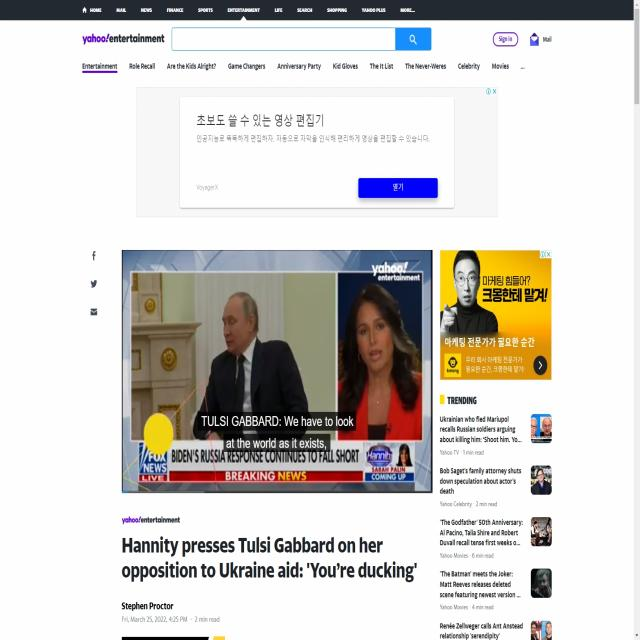menu-bar: (79, 2, 420, 18), (489, 24, 557, 53)
menu-panel: (79, 57, 535, 75)
search: (170, 25, 432, 52)
